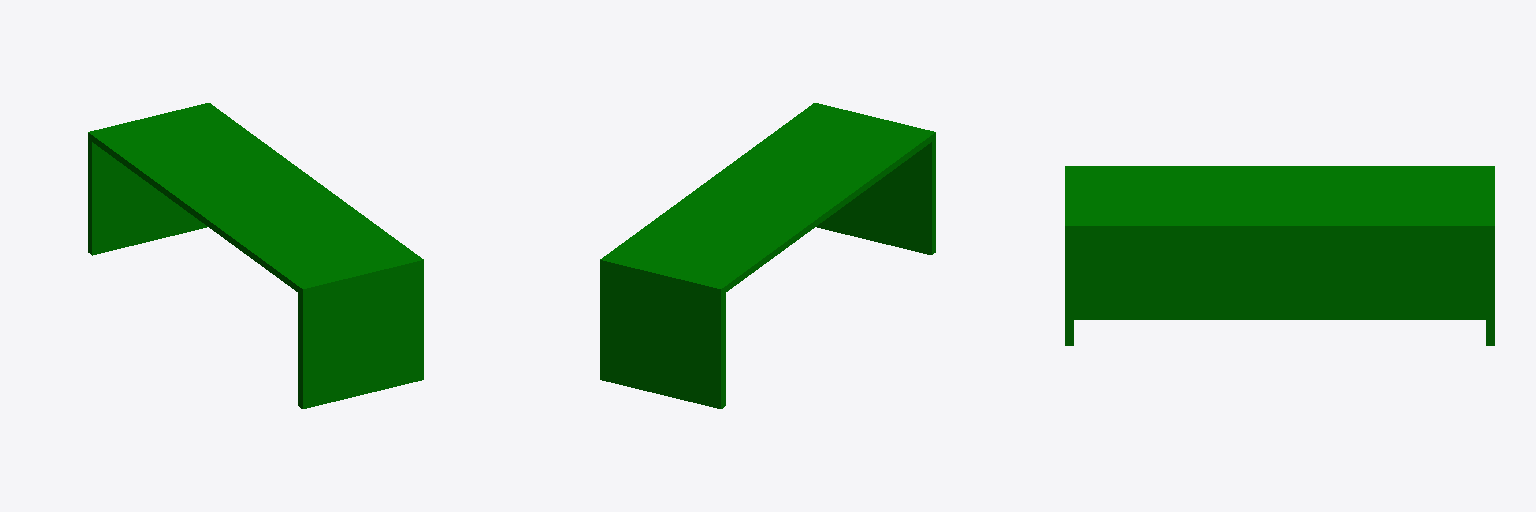
The model's file is 3d_room_desk2.obj.
3 views of the same model, side by side, from view 1: azimuth 30°, elevation 25°; view 2: azimuth 150°, elevation 25°; view 3: azimuth 270°, elevation 25° (orthographic).
Visible parts, largest first — view 1: Box007; view 2: Box007; view 3: Box007.
Part boxes in pixels (left/top/right/bottom): Box007: left=88, top=103, right=423, bottom=408; Box007: left=600, top=103, right=935, bottom=408; Box007: left=1065, top=166, right=1494, bottom=345.
Size of the model in its own units: 1.12 by 1.06 by 3.44.